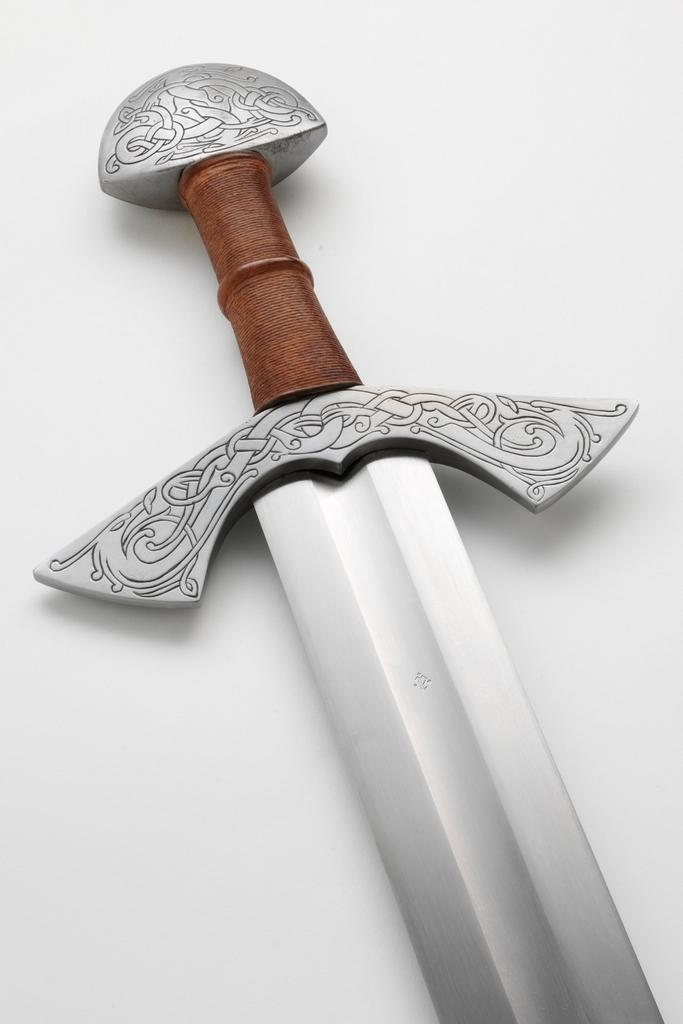Sword: (29, 61, 666, 1023)
